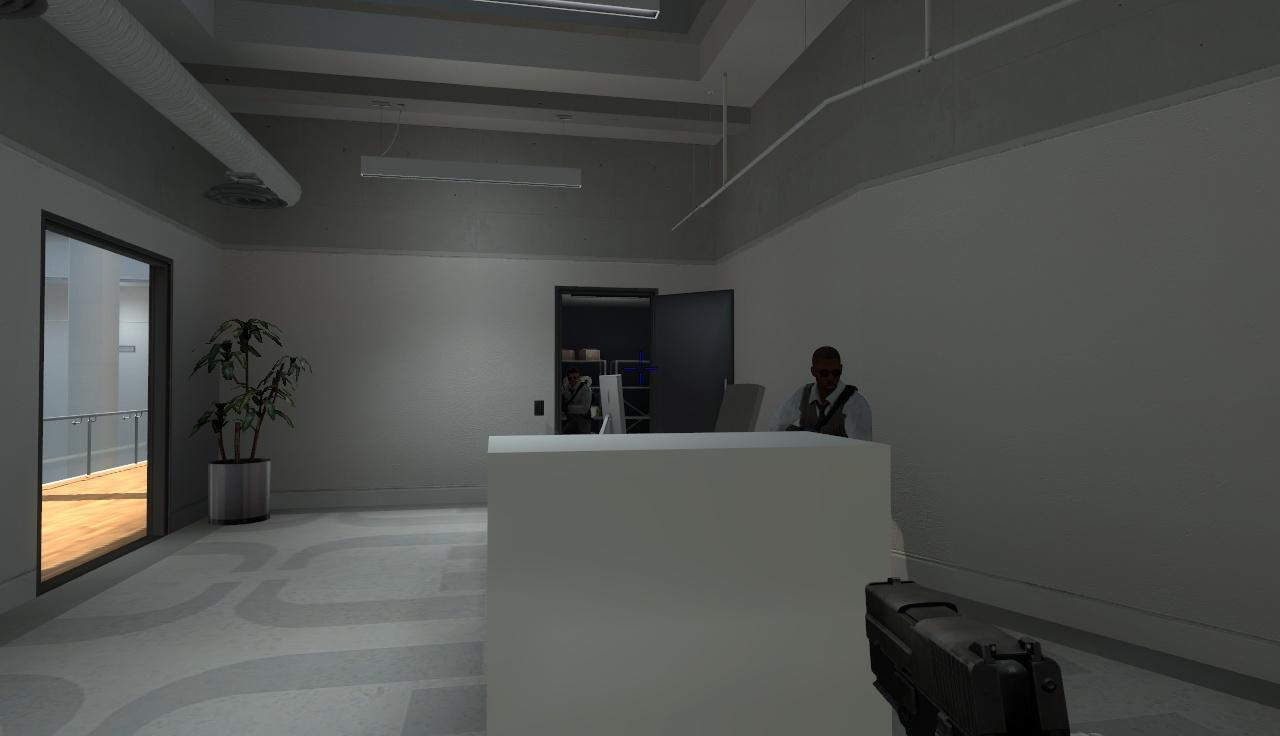pistol: (862, 571, 1070, 730)
tt: (787, 347, 870, 441), (562, 369, 591, 434)
tthead: (812, 347, 842, 392), (568, 369, 579, 385)
